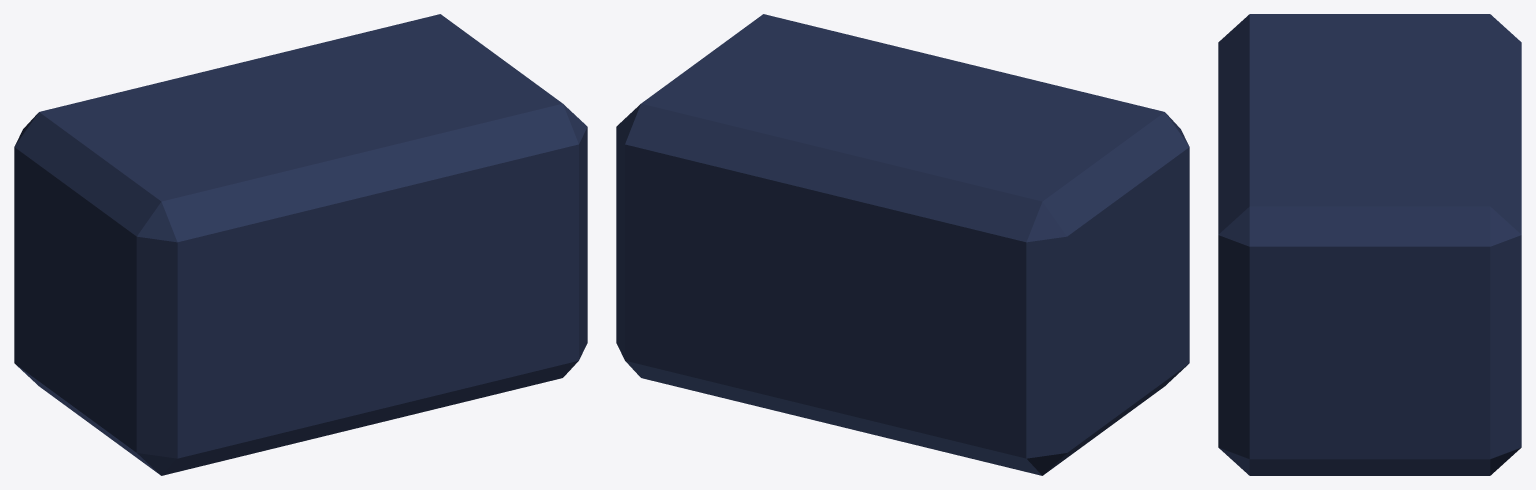
The model's file is Prop_Brick.obj.
3 renders of one model, left to right at view 1: azimuth 30°, elevation 25°; view 2: azimuth 150°, elevation 25°; view 3: azimuth 270°, elevation 25°, orthographic.
Visible parts, largest first — view 1: EXPORT_Prop_Brick; view 2: EXPORT_Prop_Brick; view 3: EXPORT_Prop_Brick.
Part boxes in pixels (box(x1,y1,x2,y2)): EXPORT_Prop_Brick: box(14, 14, 587, 475); EXPORT_Prop_Brick: box(616, 14, 1189, 475); EXPORT_Prop_Brick: box(1218, 14, 1521, 475).
Bounding box in the file's own units: 0.5265 × 0.3063 × 0.3126.
